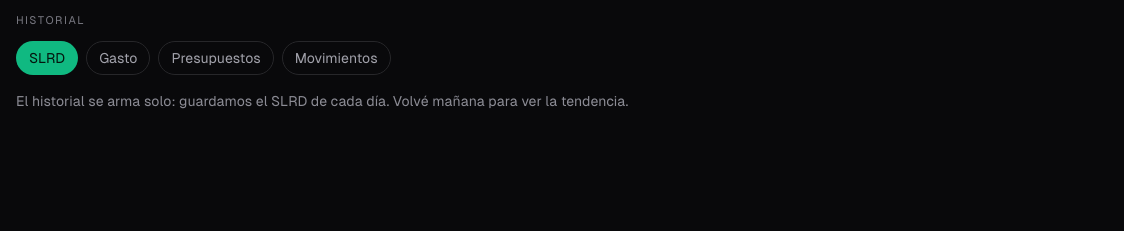
it: HistorialScreen › should_SwitchToMovimientosTab_When_TabClicked
The width and height of the screenshot is (1124, 231).
Click the button "Movimientos" at coordinates (336, 58), box left=282, top=40, right=391, bottom=74
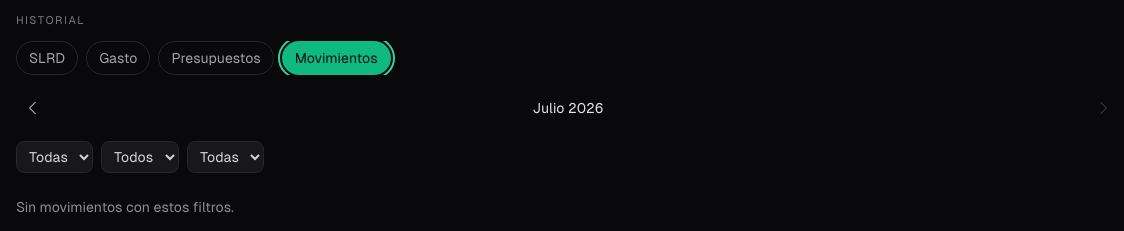
Result: the text "Sin movimientos con estos filtros." is shown at left=16, top=198, right=234, bottom=214
